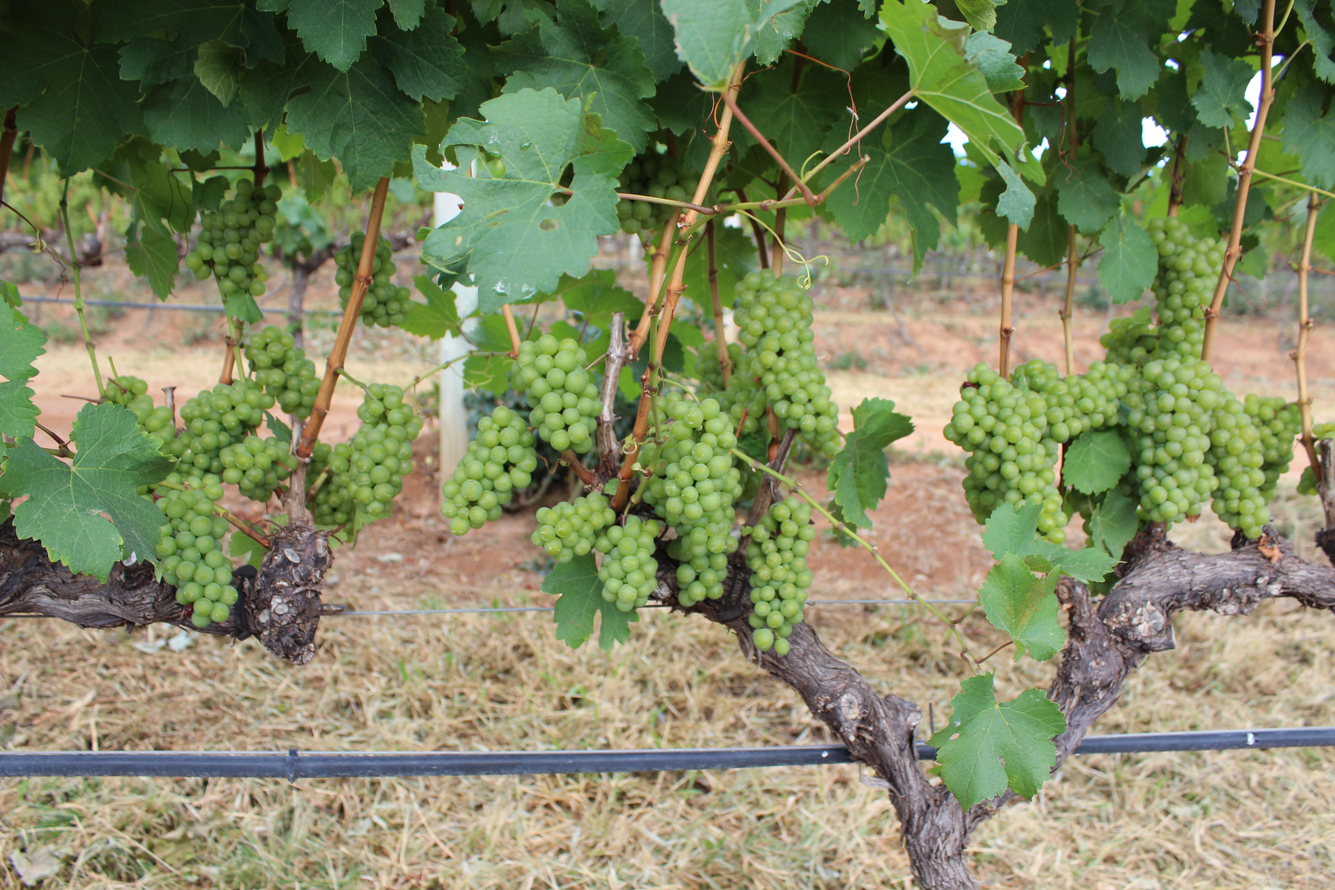leaf: (414, 88, 633, 313), (0, 403, 172, 582), (880, 0, 1044, 183), (0, 2, 146, 176), (493, 0, 657, 152), (287, 54, 423, 193), (932, 673, 1066, 809), (661, 0, 800, 89), (739, 61, 846, 173), (827, 398, 914, 527), (981, 502, 1118, 582), (368, 3, 468, 101), (541, 553, 637, 650), (979, 554, 1065, 661), (142, 76, 250, 151), (1086, 2, 1163, 100), (281, 0, 382, 72), (595, 0, 682, 81), (802, 0, 879, 72), (1282, 85, 1335, 189), (1098, 217, 1157, 304), (1191, 47, 1253, 128), (1054, 160, 1120, 235), (992, 0, 1080, 54), (1062, 431, 1131, 494), (125, 225, 179, 300), (1017, 189, 1068, 267), (399, 275, 460, 340), (1093, 101, 1145, 177), (965, 30, 1024, 92), (0, 301, 46, 380), (1089, 487, 1138, 559), (1294, 0, 1335, 83), (995, 158, 1036, 229), (0, 380, 40, 438), (386, 0, 437, 31), (832, 140, 843, 147), (270, 3, 277, 7), (1286, 116, 1287, 121), (1114, 167, 1116, 169), (437, 140, 438, 143), (845, 136, 846, 138), (1115, 168, 1116, 169), (1221, 177, 1222, 178), (1138, 119, 1138, 126), (854, 239, 858, 239), (1271, 168, 1274, 168), (1203, 88, 1203, 88)
